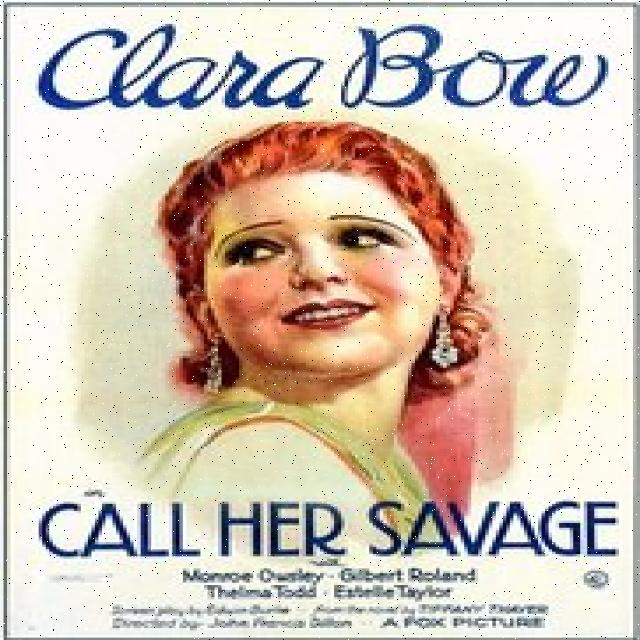movie-judul: (32, 15, 599, 124), (36, 487, 614, 562)
picture: (139, 121, 516, 518)
